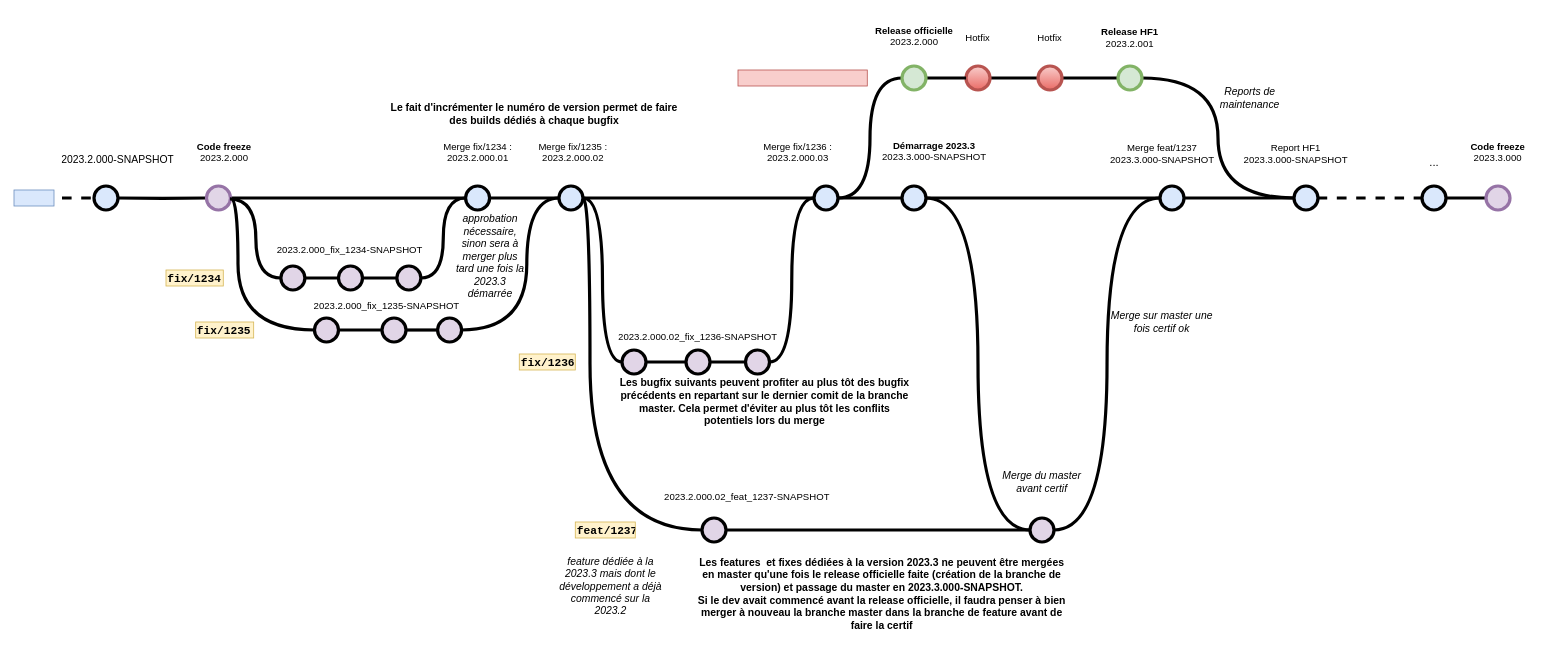
This 1552x645 diagram has some shape labels left out. Each missing label, with the box of its shape:
master: (13, 189, 54, 206)
version/bdu/v2023.2: (737, 69, 867, 86)
